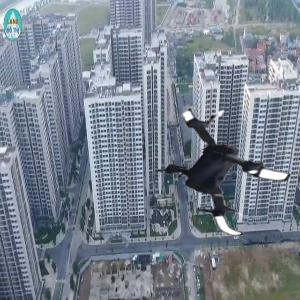drone: (141, 91, 293, 243)
